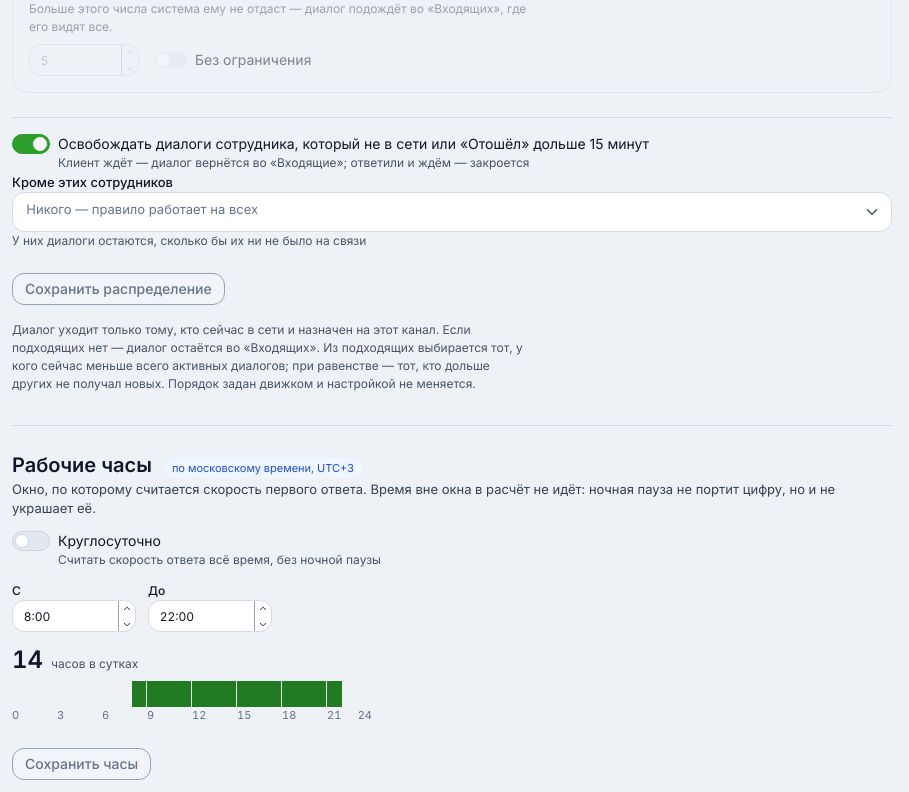
Test case: Распределение: адаптивность и иерархия › вывернутое окно даёт ноль, а не отрицательные часы
(page scrolled)
Step 1. Replace the text in the field named "Начало рабочего дня, час по Москве" with "23" → (74, 616), box 12,600 -> 136,632
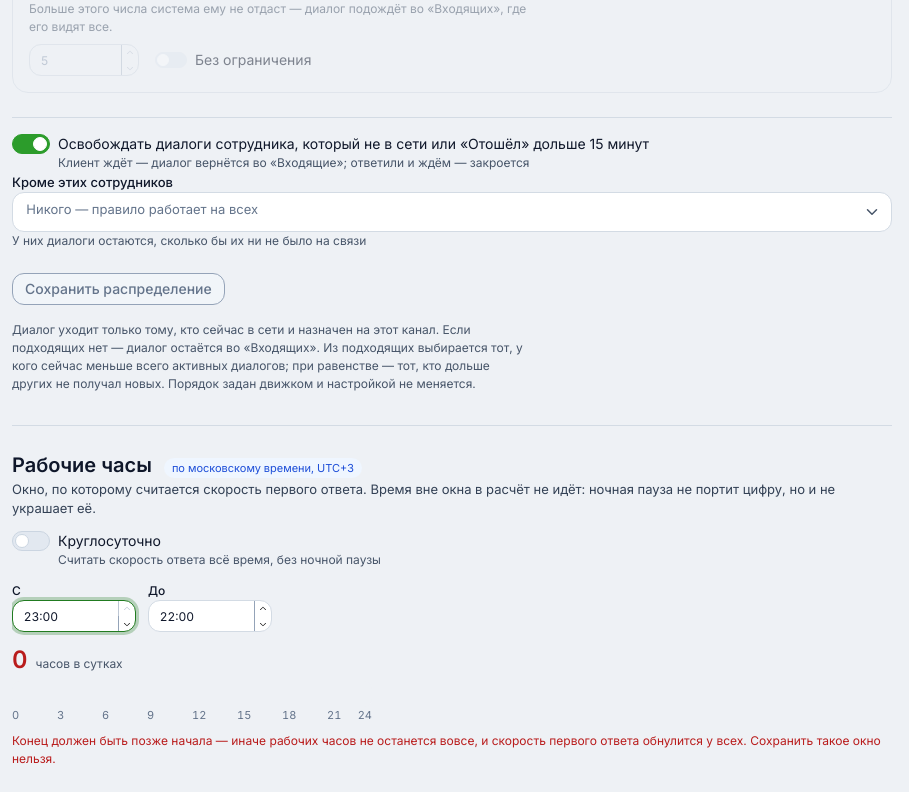
Result: the text with class "dist__len-num" reads "0" at 12,645 -> 28,674
